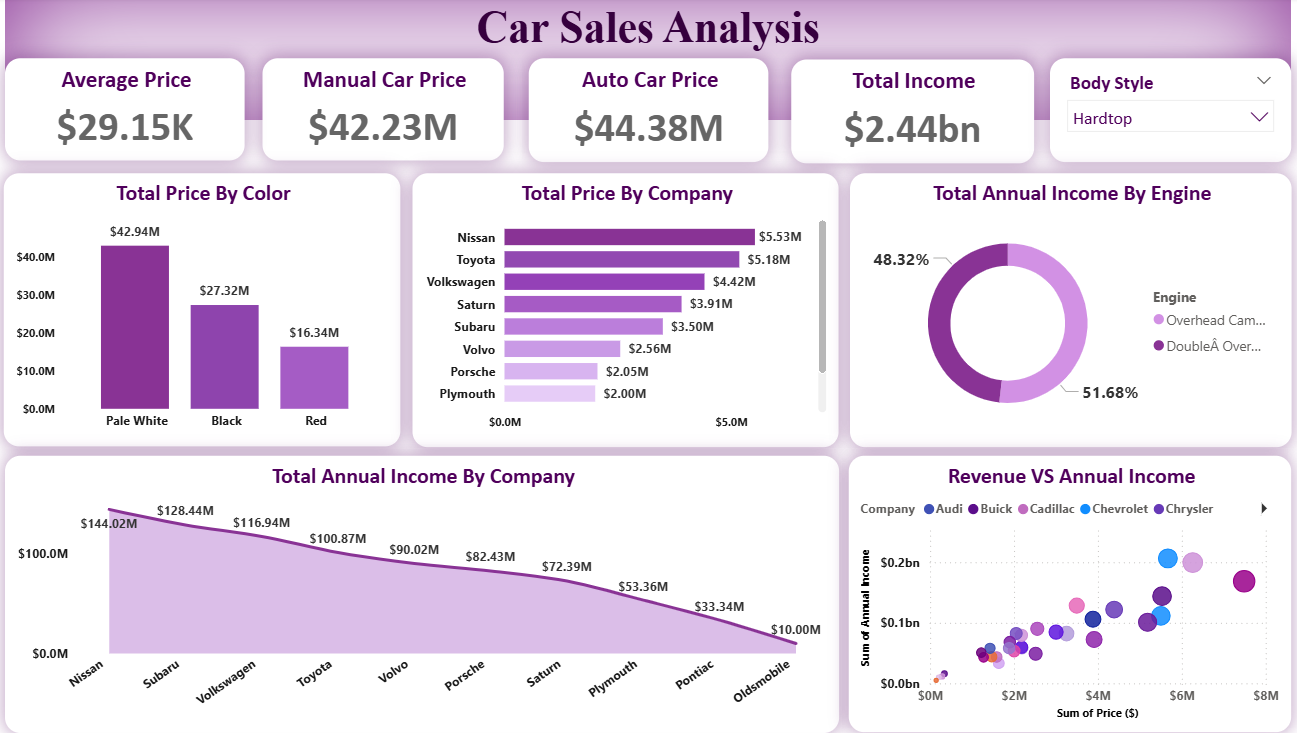

Layout of this report page (visuals, bound fields, positions):
{"tool":"powerbi","page":{"name":"Page 1","canvas":[1280,720],"ordinal":0},"visuals":[{"type":"textbox","box":[9.8,0,1258.3,121.1],"z":0},{"type":"card","title":"Manual Car Price","fields":{"Values":["car sales.Auto_Car"]},"box":[261.7,59.9,236,100.3],"z":1000},{"type":"card","title":"Auto Car Price","fields":{"Values":["car sales.Auto_Car"]},"box":[522.1,59.9,234.8,101.5],"z":2000},{"type":"card","title":"Total Income","fields":{"Values":["Sum(car sales.Annual Income)"]},"box":[778.9,61.1,237.2,101.5],"z":3000},{"type":"card","title":"Average Price","fields":{"Values":["Avg(car sales.Price ($))"]},"box":[9.8,59.9,234.8,100.3],"z":4000},{"type":"columnChart","title":"Total Price By Color","fields":{"Category":["car sales.Color"],"Y":["Sum(car sales.Price ($))"]},"box":[8.8,171.9,387.9,267.4],"z":5000},{"type":"barChart","title":"Total Price By Company","fields":{"Category":["car sales.Company"],"Y":["Sum(car sales.Price ($))"]},"box":[408.4,172.4,417,267.8],"z":6000},{"type":"areaChart","title":"Total Annual Income By Company","fields":{"Category":["car sales.Company"],"Y":["Sum(car sales.Annual Income)"]},"box":[9.8,448.8,815.6,271.5],"z":7000},{"type":"slicer","fields":{"Values":["car sales.Body Style"]},"box":[1032.1,59.9,236,101.5],"z":9000},{"type":"donutChart","title":"Total Annual Income By Engine","fields":{"Category":["car sales.Engine"],"Y":["Sum(car sales.Annual Income)"]},"box":[836.4,172.4,431.7,267.8],"z":10000},{"type":"scatterChart","title":"Revenue VS Annual Income","fields":{"Category":["car sales.Model"],"Series":["car sales.Company"],"Size":["Sum(car sales.Price ($))"],"X":["Sum(car sales.Price ($))"],"Y":["Sum(car sales.Annual Income)"]},"box":[835.2,448.8,432.9,270.2],"z":10001}]}

Visuals, with their boxes in screenshot pixels (x1, y1, x2, y2), scaled from the page's 1280x720 canvas onto the 1297x733 screenshot:
textbox: BBox(10, 0, 1285, 123)
"Manual Car Price" card: BBox(265, 61, 504, 163)
"Auto Car Price" card: BBox(529, 61, 767, 164)
"Total Income" card: BBox(789, 62, 1030, 166)
"Average Price" card: BBox(10, 61, 248, 163)
"Total Price By Color" columnChart: BBox(9, 175, 402, 447)
"Total Price By Company" barChart: BBox(414, 176, 836, 448)
"Total Annual Income By Company" areaChart: BBox(10, 457, 836, 732)
slicer - car sales.Body Style: BBox(1046, 61, 1285, 164)
"Total Annual Income By Engine" donutChart: BBox(848, 176, 1285, 448)
"Revenue VS Annual Income" scatterChart: BBox(846, 457, 1285, 732)
